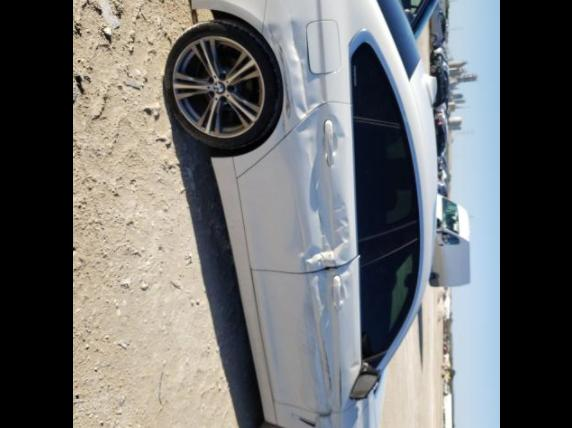Broken part: (298, 254, 359, 276), (289, 414, 316, 428), (312, 410, 331, 417)
Dent: (284, 104, 350, 270), (303, 265, 350, 406), (268, 22, 318, 121), (317, 413, 340, 428), (347, 361, 360, 369)
Scratch: (277, 47, 290, 118), (318, 329, 332, 394), (336, 365, 342, 408)
